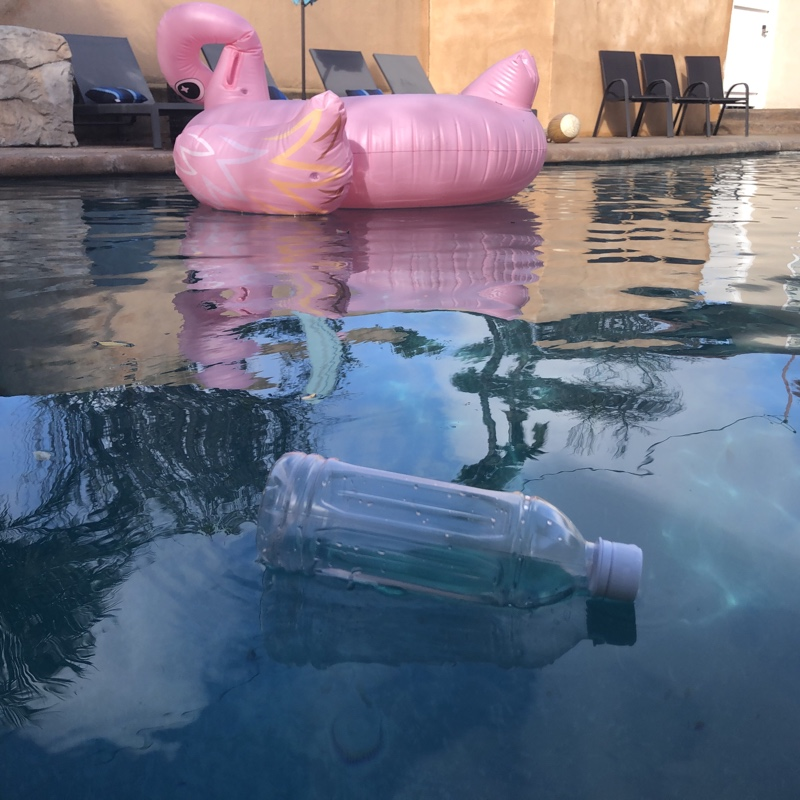Plastic Bottle: (255, 446, 650, 617)
